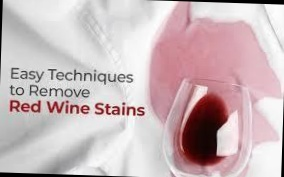wine: (147, 6, 282, 116), (249, 103, 275, 151)
